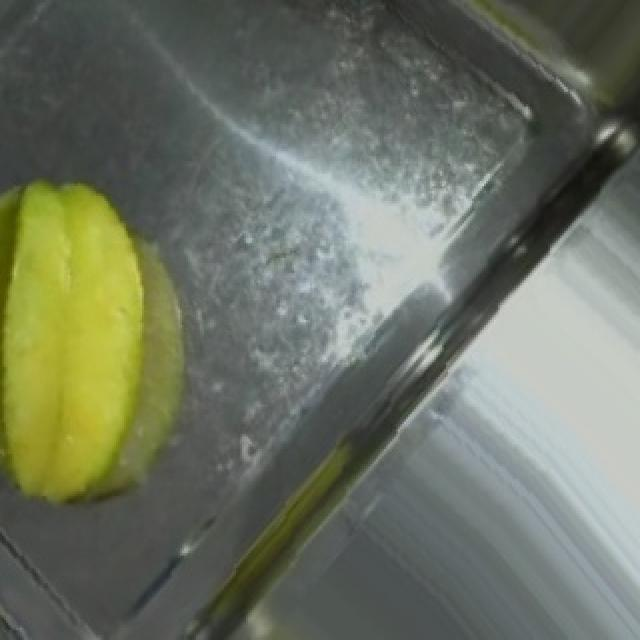fruit: (0, 149, 274, 551), (348, 377, 634, 640), (428, 0, 640, 149), (552, 146, 640, 387)
